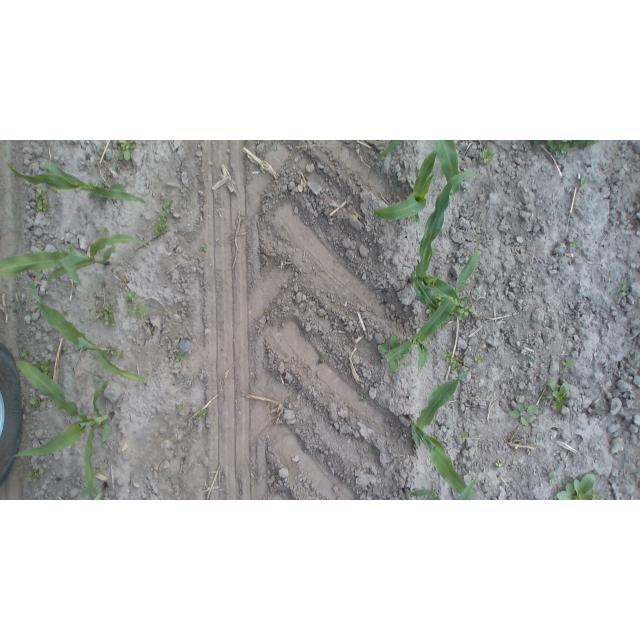Maize: (3, 359, 118, 494), (384, 234, 481, 380), (27, 275, 145, 384), (406, 169, 479, 311), (408, 366, 476, 500), (0, 235, 148, 291), (6, 159, 148, 205), (373, 148, 435, 228), (432, 141, 460, 196), (403, 485, 441, 500), (78, 482, 109, 500), (455, 477, 477, 500), (377, 141, 403, 160)
Weeds: (555, 472, 605, 501), (530, 141, 600, 160), (378, 334, 410, 371), (542, 378, 569, 413), (508, 402, 539, 426), (442, 350, 465, 373), (34, 186, 50, 214), (154, 211, 171, 237), (101, 305, 120, 328), (116, 141, 136, 162), (560, 354, 576, 374), (459, 301, 474, 322), (479, 145, 496, 163), (35, 358, 52, 374), (128, 304, 148, 317), (25, 469, 40, 485), (125, 290, 142, 303), (161, 199, 175, 214), (28, 395, 41, 409), (617, 281, 631, 293), (174, 347, 185, 361), (315, 352, 326, 366), (89, 178, 104, 186), (569, 237, 580, 247), (198, 408, 208, 419), (359, 392, 368, 404), (200, 244, 209, 255), (474, 354, 485, 363), (462, 433, 471, 444), (580, 177, 589, 187), (550, 471, 557, 483), (495, 458, 504, 467), (177, 401, 185, 410), (21, 350, 29, 358), (426, 308, 433, 315), (264, 309, 270, 317), (111, 163, 117, 170), (119, 349, 124, 357), (110, 348, 115, 355)
